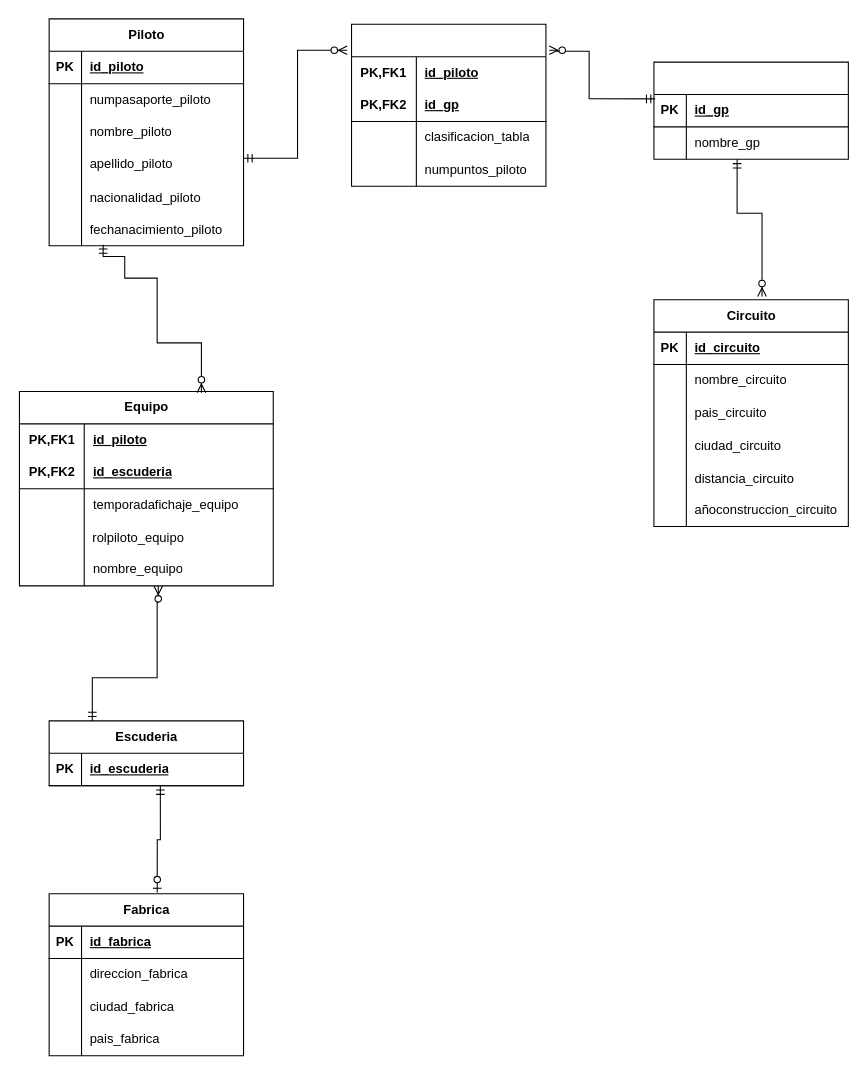
The diagram is 867 pixels wide and 1075 high, and some of its shapes have lost their labels. The shapes that lost their labels are listed below. From the top down, each one's box as (x1, y1, x2, y2) in pixels, then its label:
(350, 23, 546, 186): Table
(653, 61, 848, 159): Gp
